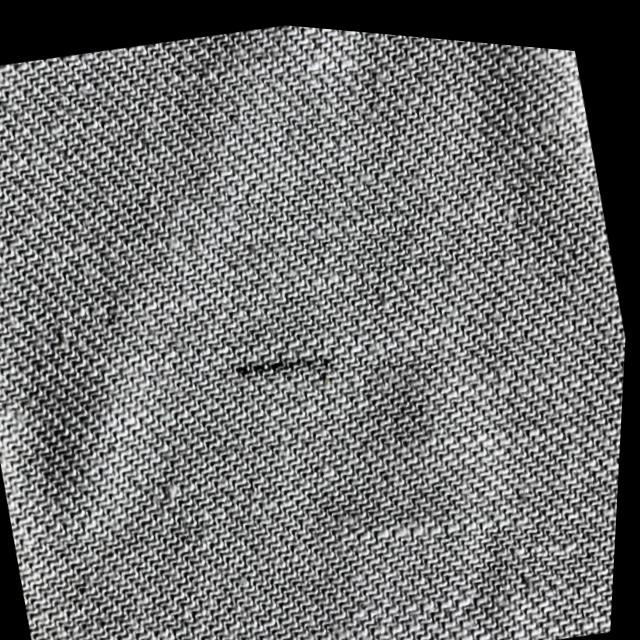Hole: (239, 351, 288, 373)
